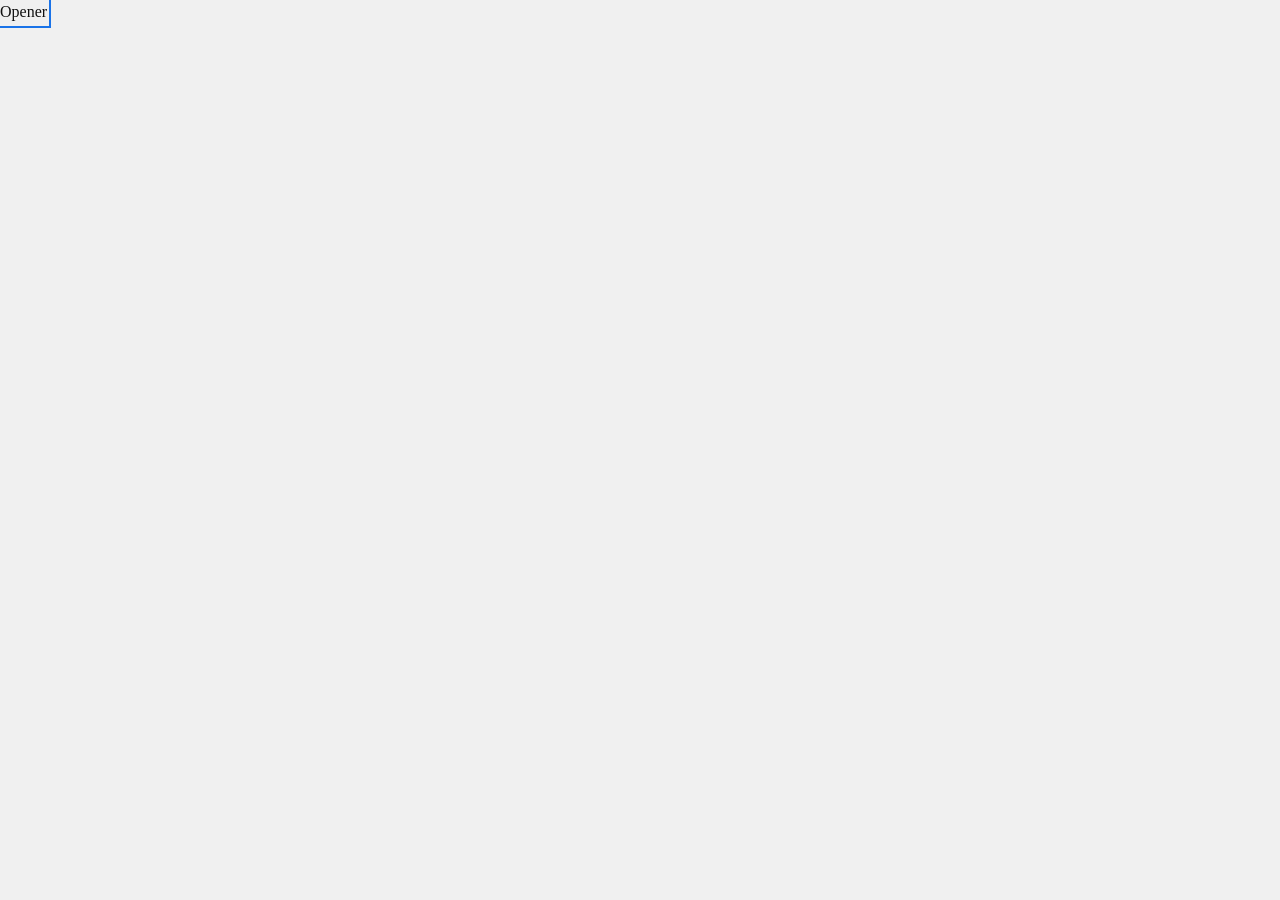
Test case: CommandPalette — open/close grammar › focuses the filter input on open, closes on Esc returning focus to the opener, closes on a scrim press
This screenshot has width=1280, height=900.
Type keys "{Control>}k{/Control}"
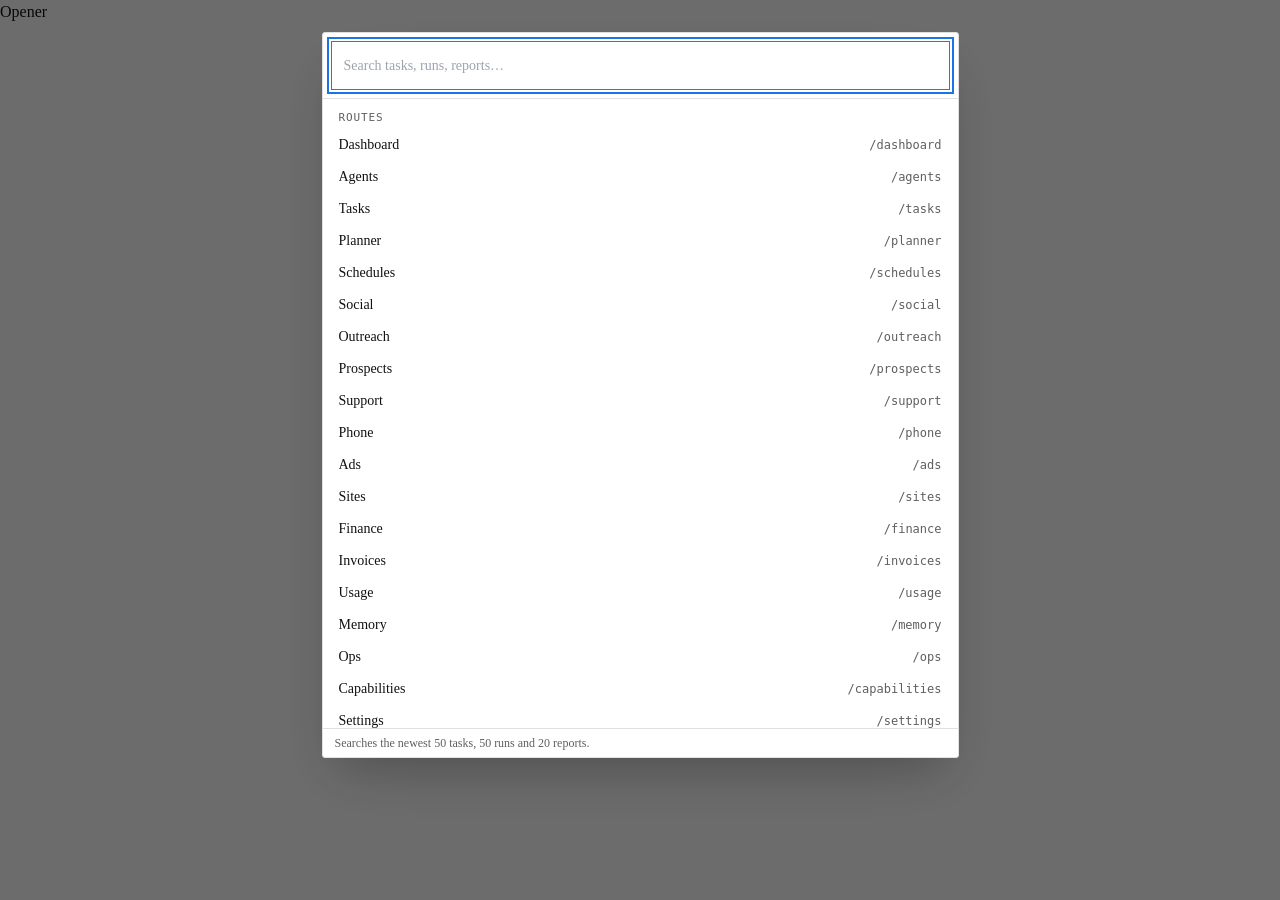
Press Escape
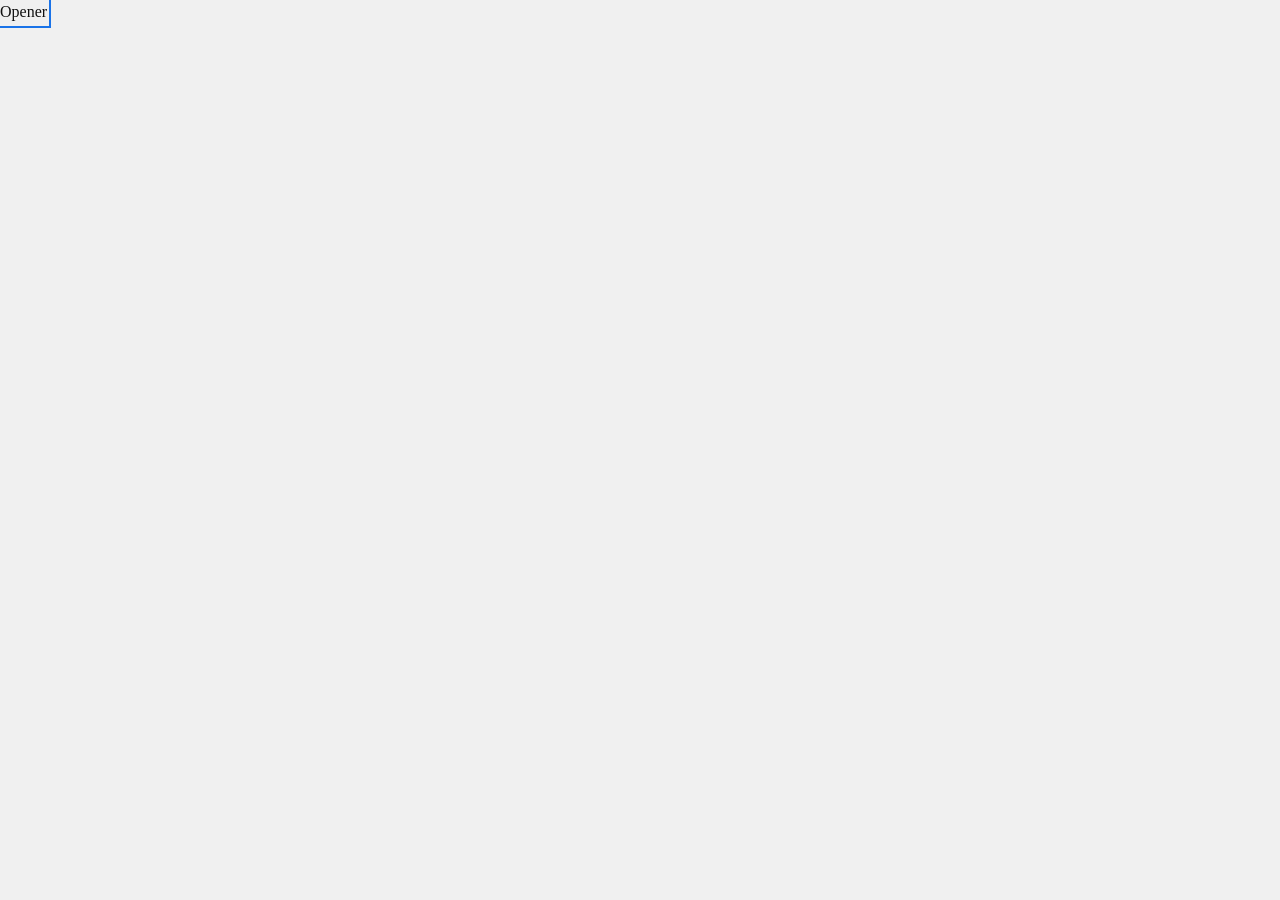
Now the dialog is gone
Type keys "{Control>}k{/Control}"
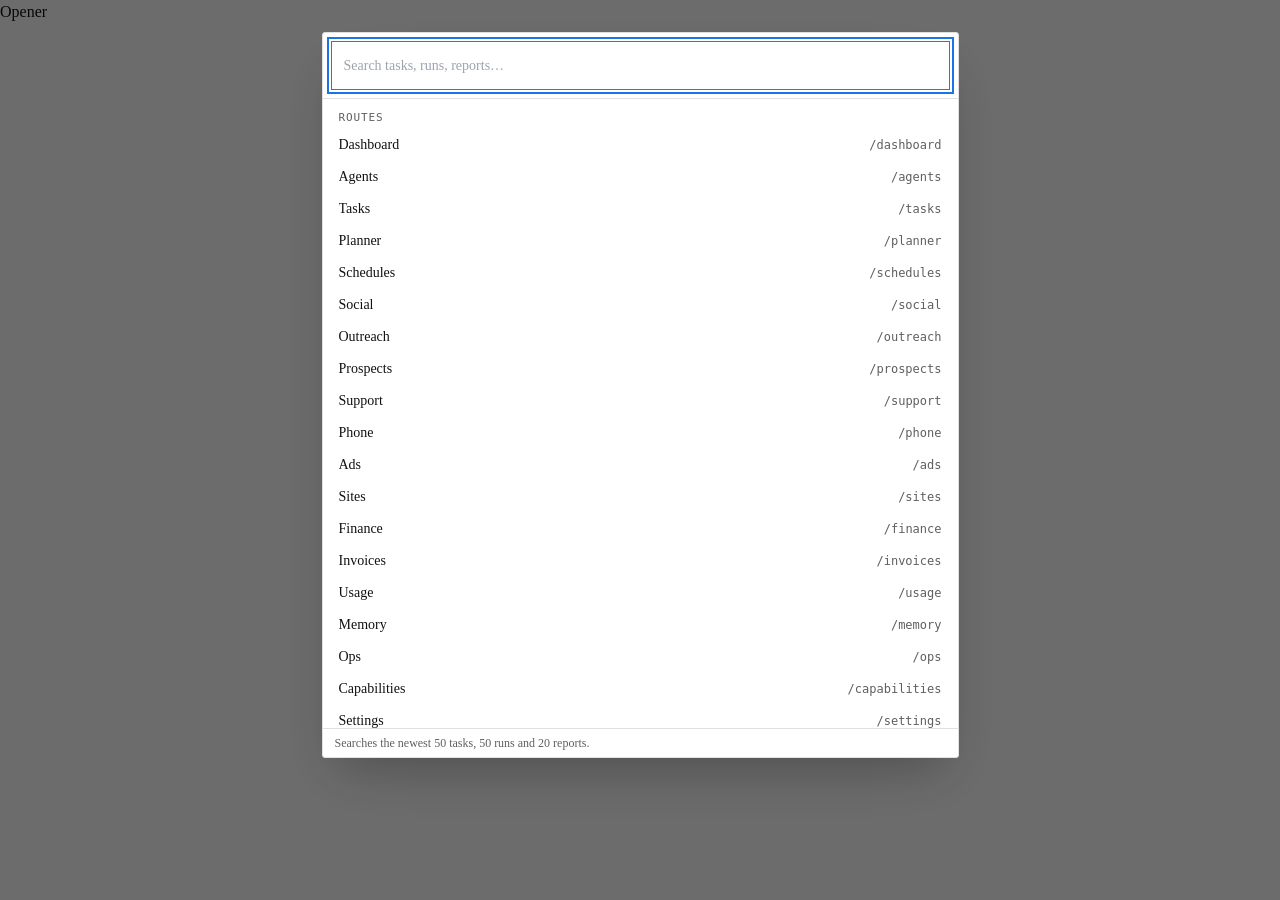
Click the element with test id "palette-scrim". click: (77, 450)
box: [0,0,1279,899]
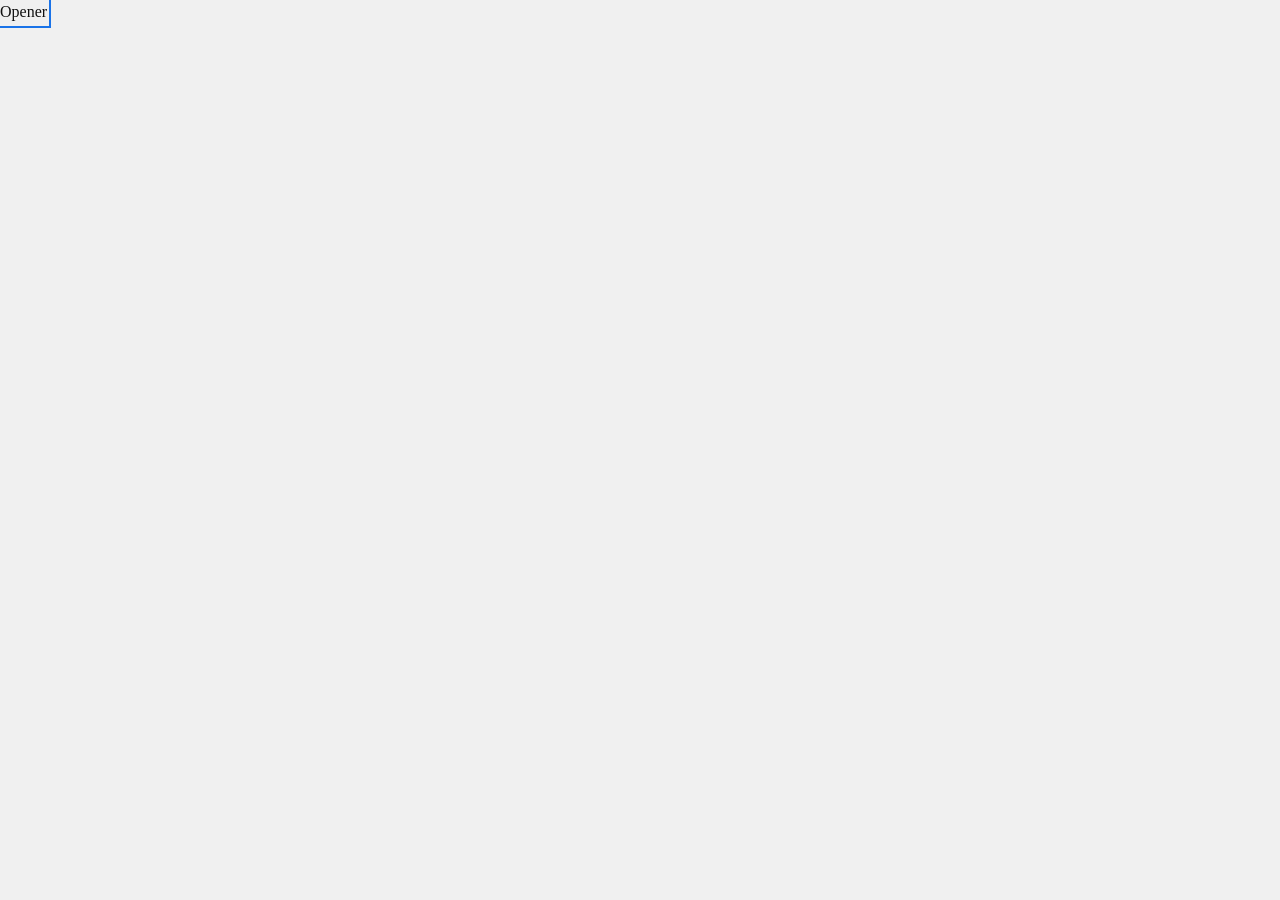
Now the dialog is gone
